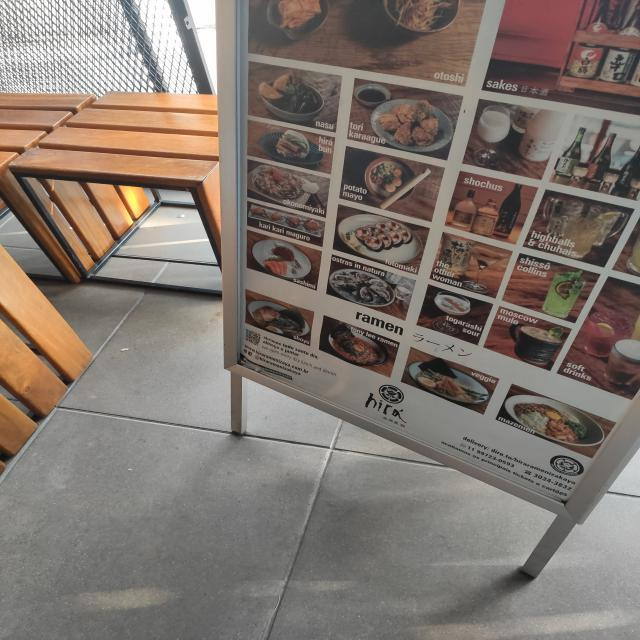qrcode: (247, 330, 262, 346)
